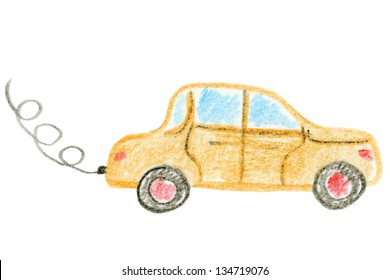car: (98, 81, 384, 214)
